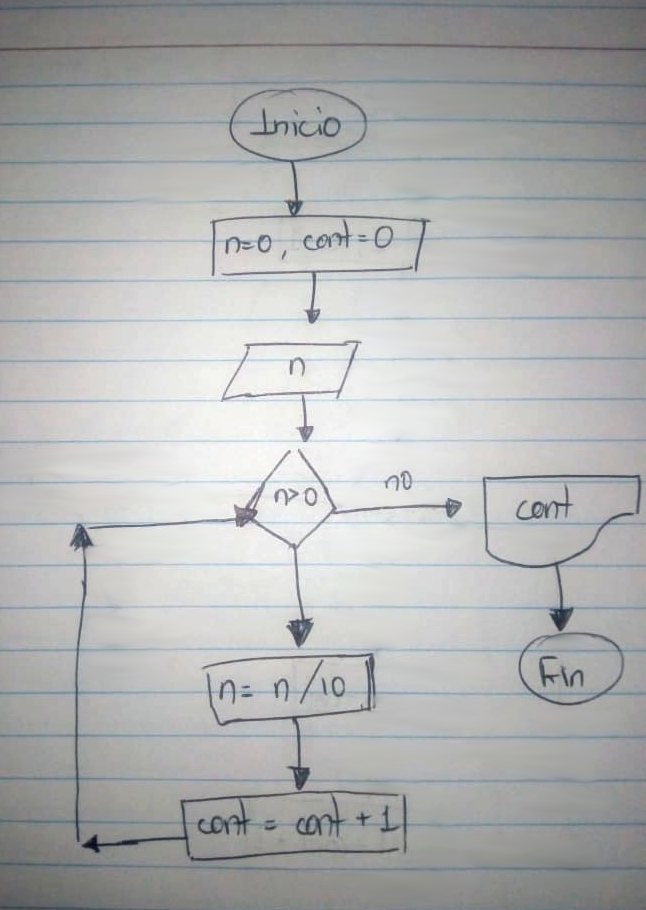arrow_line_down: (277, 543, 319, 654), (543, 561, 581, 636), (280, 712, 314, 794), (298, 272, 328, 340), (287, 391, 321, 451), (280, 158, 308, 217)
arrow_line_left: (76, 823, 191, 860)
arrow_line_right: (89, 498, 261, 536), (330, 490, 473, 524)
arrow_line_up: (56, 519, 91, 849)
decision: (243, 447, 344, 553)
print: (477, 464, 643, 569)
process: (171, 783, 417, 871), (202, 210, 432, 279), (198, 647, 384, 723)
scan: (210, 338, 374, 398)
start_end: (221, 82, 377, 169), (508, 628, 632, 710)
